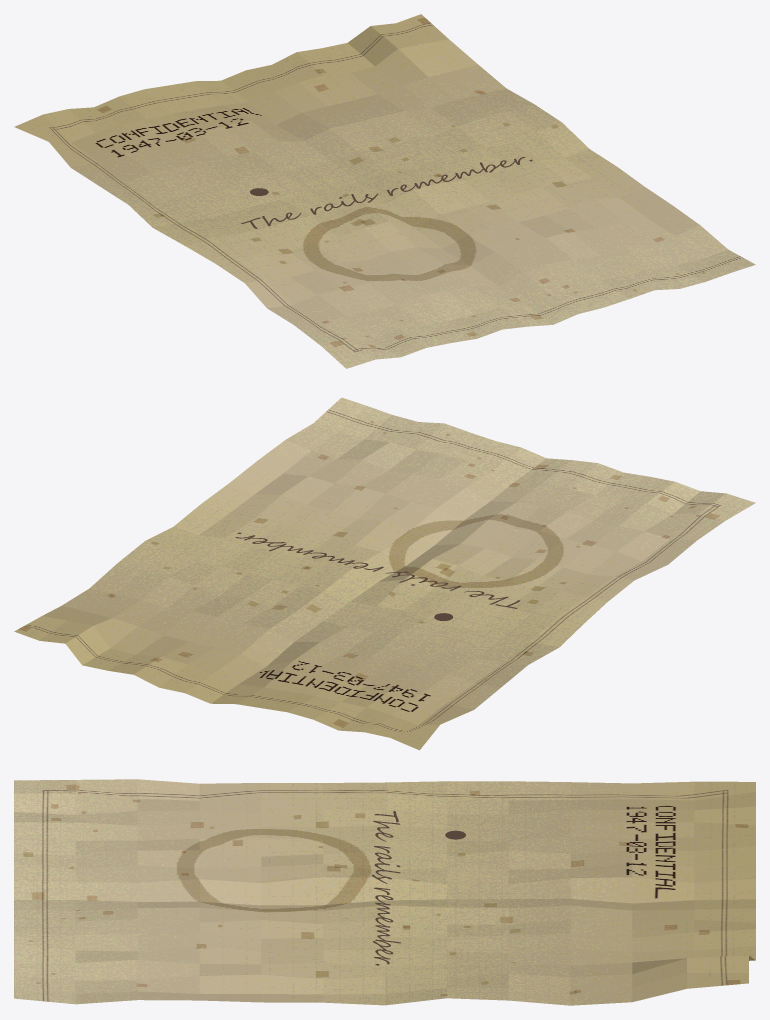
Rendered from note_prop.fbx.
3 renders of one model, top to bottom at view 1: azimuth 30°, elevation 25°; view 2: azimuth 150°, elevation 25°; view 3: azimuth 270°, elevation 25°, orthographic. The views are drawn at different scales.
Visible parts, largest first — view 1: Note_Paper, Note_Text; view 2: Note_Paper, Note_Text; view 3: Note_Paper, Note_Text.
Part boxes in pixels (x1,y1,x2,y2): Note_Paper: (14, 14, 755, 368); Note_Text: (241, 157, 532, 228); Note_Paper: (14, 397, 755, 750); Note_Text: (235, 532, 520, 608); Note_Paper: (14, 779, 755, 1005); Note_Text: (371, 811, 400, 965).
Size of the model in its own units: 0.1494 by 0.00936 by 0.21.
Materials: 2 (1 with a texture image).
